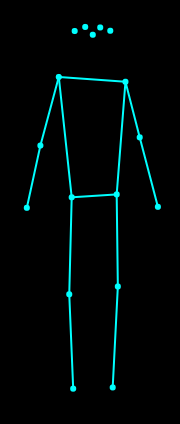mountain: (20, 17, 166, 395)
